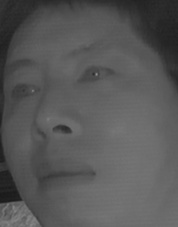eye: (75, 63, 116, 91), (6, 79, 44, 106)
mouth: (34, 155, 96, 195)
